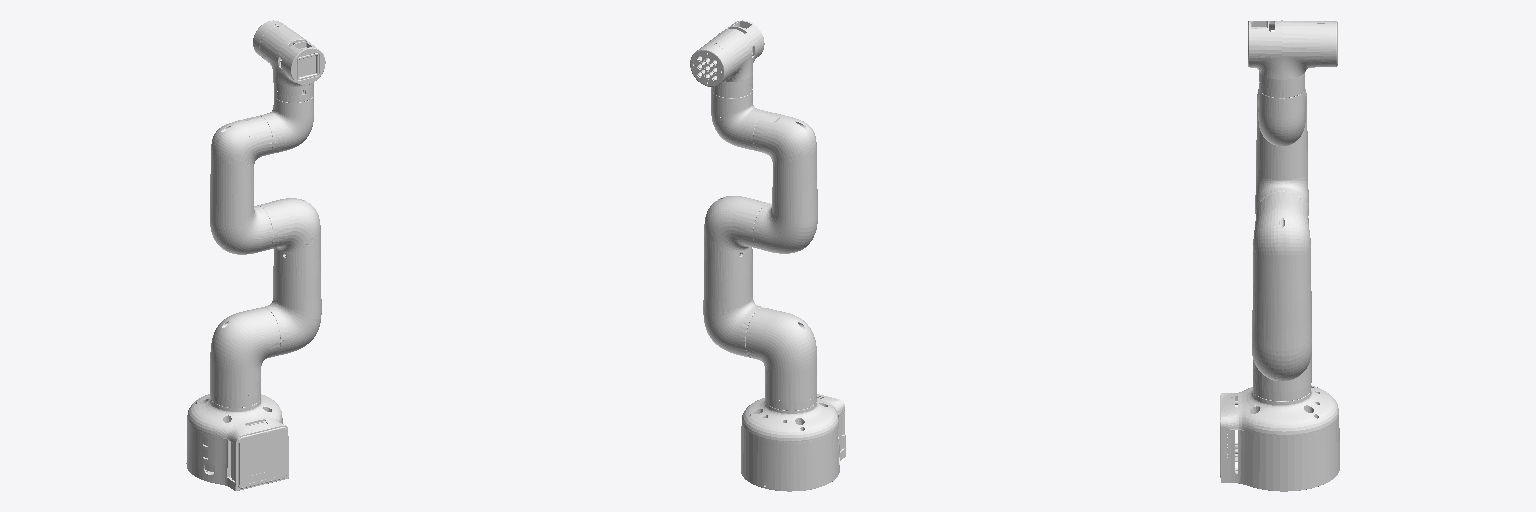
robot.urdf — cobot3:
<?xml version="1.0" encoding="utf-8"?>
<!-- This URDF was automatically created by SolidWorks to URDF Exporter! Originally created by [author] ([email redacted]) 
     Commit Version: 1.6.0-4-g7f85cfe  Build Version: 1.6.7995.38578
     For more information, please see http://wiki.ros.org/sw_urdf_exporter -->
<robot
  name="cobot3">
  <link
    name="base_link">
    <inertial>
      <origin
        xyz="-0.00232016170427611 -0.000765606892289066 0.0312786168841254"
        rpy="0 0 0" />
      <mass
        value="0.353079592362671" />
      <inertia
        ixx="0.000316043460529038"
        ixy="1.10699213846399E-06"
        ixz="3.56238975852151E-07"
        iyy="0.000275853060470908"
        iyz="-4.4782378037197E-06"
        izz="0.000397335833492931" />
    </inertial>
    <visual>
      <origin
        xyz="0 0 0"
        rpy="0 0 0" />
      <geometry>
        <mesh
          filename="package://cobot3/meshes/base_link.STL" />
      </geometry>
      <material
        name="">
        <color
          rgba="0.941176470588235 0.941176470588235 0.941176470588235 1" />
      </material>
    </visual>
    <collision>
      <origin
        xyz="0 0 0"
        rpy="0 0 0" />
      <geometry>
        <mesh
          filename="package://cobot3/meshes/base_link.STL" />
      </geometry>
    </collision>
  </link>
  <link
    name="arm1">
    <inertial>
      <origin
        xyz="-0.00680883134118458 5.04706668380235E-06 0.0427361271303308"
        rpy="0 0 0" />
      <mass
        value="0.0362482761705093" />
      <inertia
        ixx="3.14204853252413E-05"
        ixy="-6.43423216148532E-09"
        ixz="7.56551874923508E-06"
        iyy="2.91040059278216E-05"
        iyz="1.60246138886805E-08"
        izz="1.50532211800604E-05" />
    </inertial>
    <visual>
      <origin
        xyz="0 0 0"
        rpy="0 0 0" />
      <geometry>
        <mesh
          filename="package://cobot3/meshes/arm1.STL" />
      </geometry>
      <material
        name="">
        <color
          rgba="0.941176470588235 0.941176470588235 0.941176470588235 1" />
      </material>
    </visual>
    <collision>
      <origin
        xyz="0 0 0"
        rpy="0 0 0" />
      <geometry>
        <mesh
          filename="package://cobot3/meshes/arm1.STL" />
      </geometry>
    </collision>
  </link>
  <joint
    name="arm1_joint"
    type="continuous">
    <origin
      xyz="-0.00241845213874587 0 0.0697000000004628"
      rpy="0 0 -3.14159265358979" />
    <parent
      link="base_link" />
    <child
      link="arm1" />
    <axis
      xyz="0 0 1" />
  </joint>
  <link
    name="arm2">
    <inertial>
      <origin
        xyz="-0.0330958384335248 -3.84035780758452E-06 0.0516148073914731"
        rpy="0 0 0" />
      <mass
        value="0.0668455233514871" />
      <inertia
        ixx="0.00016699911931717"
        ixy="4.14240033901259E-09"
        ixz="-5.91386991528367E-07"
        iyy="0.000158362235625875"
        iyz="-1.78121580526278E-08"
        izz="2.06283877923238E-05" />
    </inertial>
    <visual>
      <origin
        xyz="0 0 0"
        rpy="0 0 0" />
      <geometry>
        <mesh
          filename="package://cobot3/meshes/arm2.STL" />
      </geometry>
      <material
        name="">
        <color
          rgba="0.941176470588235 0.941176470588235 0.941176470588235 1" />
      </material>
    </visual>
    <collision>
      <origin
        xyz="0 0 0"
        rpy="0 0 0" />
      <geometry>
        <mesh
          filename="package://cobot3/meshes/arm2.STL" />
      </geometry>
    </collision>
  </link>
  <joint
    name="arm2_joint"
    type="continuous">
    <origin
      xyz="-0.0254169999999994 0 0.0605300000000008"
      rpy="0 0 0" />
    <parent
      link="arm1" />
    <child
      link="arm2" />
    <axis
      xyz="1 0 0" />
  </joint>
  <link
    name="arm3">
    <inertial>
      <origin
        xyz="0.0204973453112503 1.70655073341349E-07 0.0437225645153907"
        rpy="0 0 0" />
      <mass
        value="0.0533332652028824" />
      <inertia
        ixx="0.000101596860219516"
        ixy="6.19715201019417E-10"
        ixz="-4.0389306770211E-06"
        iyy="9.73975049529666E-05"
        iyz="-8.24534996298816E-09"
        izz="1.36964308632225E-05" />
    </inertial>
    <visual>
      <origin
        xyz="0 0 0"
        rpy="0 0 0" />
      <geometry>
        <mesh
          filename="package://cobot3/meshes/arm3.STL" />
      </geometry>
      <material
        name="">
        <color
          rgba="0.941176470588235 0.941176470588235 0.941176470588235 1" />
      </material>
    </visual>
    <collision>
      <origin
        xyz="0 0 0"
        rpy="0 0 0" />
      <geometry>
        <mesh
          filename="package://cobot3/meshes/arm3.STL" />
      </geometry>
    </collision>
  </link>
  <joint
    name="arm3_joint"
    type="continuous">
    <origin
      xyz="0 0 0.11"
      rpy="0 0 0" />
    <parent
      link="arm2" />
    <child
      link="arm3" />
    <axis
      xyz="1 0 0" />
  </joint>
  <link
    name="arm4">
    <inertial>
      <origin
        xyz="-0.0230551919175185 -1.56460424999699E-05 0.00768436024359659"
        rpy="0 0 0" />
      <mass
        value="0.0240644495984215" />
      <inertia
        ixx="7.73837847203445E-06"
        ixy="-1.75914634378234E-09"
        ixz="3.31021198817931E-06"
        iyy="9.32588539832337E-06"
        iyz="-7.9605586261709E-10"
        izz="7.81920505993916E-06" />
    </inertial>
    <visual>
      <origin
        xyz="0 0 0"
        rpy="0 0 0" />
      <geometry>
        <mesh
          filename="package://cobot3/meshes/arm4.STL" />
      </geometry>
      <material
        name="">
        <color
          rgba="0.941176470588235 0.941176470588235 0.941176470588235 1" />
      </material>
    </visual>
    <collision>
      <origin
        xyz="0 0 0"
        rpy="0 0 0" />
      <geometry>
        <mesh
          filename="package://cobot3/meshes/arm4.STL" />
      </geometry>
    </collision>
  </link>
  <joint
    name="arm4_joint"
    type="continuous">
    <origin
      xyz="-0.00412020971722486 0 0.0960000000000001"
      rpy="0 0 0" />
    <parent
      link="arm3" />
    <child
      link="arm4" />
    <axis
      xyz="1 0 0" />
  </joint>
  <link
    name="arm5">
    <inertial>
      <origin
        xyz="-8.7966263755436E-05 -0.0009192869787677 0.0288733416528603"
        rpy="0 0 0" />
      <mass
        value="0.0314625775760422" />
      <inertia
        ixx="1.32874353990497E-05"
        ixy="-2.58704830135211E-08"
        ixz="1.3828487204083E-08"
        iyy="1.33703816598306E-05"
        iyz="2.99685352454218E-06"
        izz="8.53017322567244E-06" />
    </inertial>
    <visual>
      <origin
        xyz="0 0 0"
        rpy="0 0 0" />
      <geometry>
        <mesh
          filename="package://cobot3/meshes/arm5.STL" />
      </geometry>
      <material
        name="">
        <color
          rgba="0.941176470588235 0.941176470588235 0.941176470588235 1" />
      </material>
    </visual>
    <collision>
      <origin
        xyz="0 0 0"
        rpy="0 0 0" />
      <geometry>
        <mesh
          filename="package://cobot3/meshes/arm5.STL" />
      </geometry>
    </collision>
  </link>
  <joint
    name="arm5_joint"
    type="continuous">
    <origin
      xyz="-0.0335582307949353 0 0.0348110141897063"
      rpy="0 0 0" />
    <parent
      link="arm4" />
    <child
      link="arm5" />
    <axis
      xyz="0 0 1" />
  </joint>
  <link
    name="ee">
    <inertial>
      <origin
        xyz="-1.18362049368603E-06 -0.0129921539923426 -3.05724449506384E-06"
        rpy="0 0 0" />
      <mass
        value="0.00770531410204427" />
      <inertia
        ixx="8.40243417618165E-07"
        ixy="-5.3750640596979E-11"
        ixz="7.42731026044781E-14"
        iyy="1.35522169215089E-06"
        iyz="1.31206191585443E-10"
        izz="8.40608900769456E-07" />
    </inertial>
    <visual>
      <origin
        xyz="0 0 0"
        rpy="0 0 0" />
      <geometry>
        <mesh
          filename="package://cobot3/meshes/ee.STL" />
      </geometry>
      <material
        name="">
        <color
          rgba="0.941176470588235 0.941176470588235 0.941176470588235 1" />
      </material>
    </visual>
    <collision>
      <origin
        xyz="0 0 0"
        rpy="0 0 0" />
      <geometry>
        <mesh
          filename="package://cobot3/meshes/ee.STL" />
      </geometry>
    </collision>
  </link>
  <joint
    name="ee_joint"
    type="continuous">
    <origin
      xyz="0 -0.02616582586857 0.0399381567054393"
      rpy="0 0 0" />
    <parent
      link="arm5" />
    <child
      link="ee" />
    <axis
      xyz="0 1 0" />
  </joint>
</robot>

--- Render facts (derived) ---
The picture shows the robot from 3 angles, left to right: view 1: azimuth 30°, elevation 25°; view 2: azimuth 150°, elevation 25°; view 3: azimuth 270°, elevation 25°; orthographic projection.
Model cobot3 with 7 links and 6 joints (6 continuous), rooted at base_link, posed every joint at zero.
Visible links, largest first — view 1: base_link, arm2, arm3, arm1, arm5, arm4; view 2: base_link, arm2, arm3, arm1, arm5, arm4, ee; view 3: base_link, arm2, arm5, arm3, arm4, arm1, ee.
Link boxes in pixels (box(x1,y1,x2,y2)): base_link: box(186, 394, 288, 490); arm2: box(257, 198, 321, 356); arm3: box(210, 116, 272, 254); arm1: box(210, 307, 280, 407); arm5: box(260, 25, 325, 102); arm4: box(260, 96, 313, 154); base_link: box(741, 394, 845, 491); arm2: box(703, 196, 768, 357); arm3: box(753, 112, 817, 253); arm1: box(745, 308, 816, 410); arm5: box(705, 20, 764, 97); arm4: box(711, 90, 767, 150); ee: box(690, 44, 731, 86); base_link: box(1220, 385, 1339, 491); arm2: box(1252, 192, 1311, 380); arm5: box(1248, 20, 1320, 97); arm3: box(1255, 89, 1308, 215); arm4: box(1258, 90, 1305, 146); arm1: box(1253, 356, 1311, 400); ee: box(1321, 21, 1337, 66).
Size in the robot's own frame: 0.1352 by 0.0986 by 0.4315 metres.
Meshes: 7 distinct files referenced, 7 mesh visuals loaded (7 binary STL).